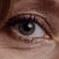eye: (20, 22, 35, 35)
